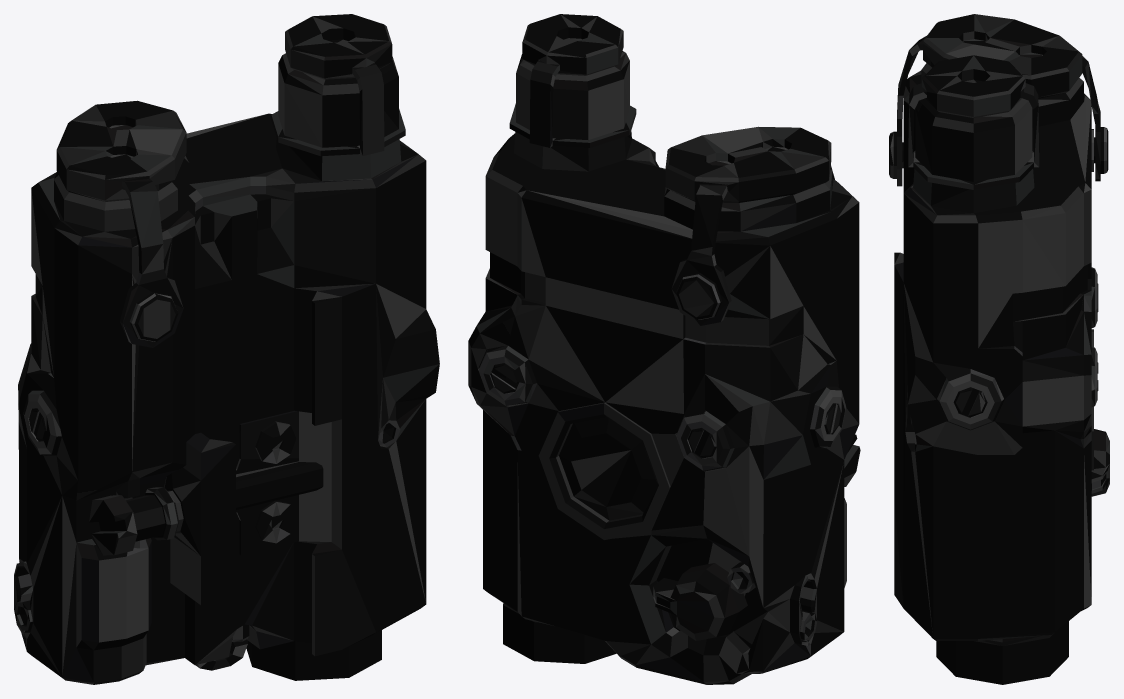
The model's file is Laser_Pistol.fbx.
3 views of the same model, side by side, from view 1: azimuth 30°, elevation 25°; view 2: azimuth 150°, elevation 25°; view 3: azimuth 270°, elevation 25° (orthographic). The views are drawn at different scales.
Visible parts, largest first — view 1: asset_Laser_Pistol.001; view 2: asset_Laser_Pistol.001; view 3: asset_Laser_Pistol.001.
Boxes of the visible parts, <box> form: asset_Laser_Pistol.001: <box>14,14,439,684</box>; asset_Laser_Pistol.001: <box>468,14,860,684</box>; asset_Laser_Pistol.001: <box>889,14,1109,684</box>.
Bounding box in the file's own units: 0.0189 × 0.0318 × 0.0106.
